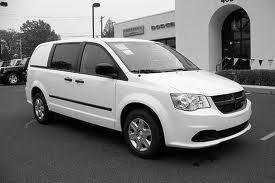car: (26, 39, 252, 155)
